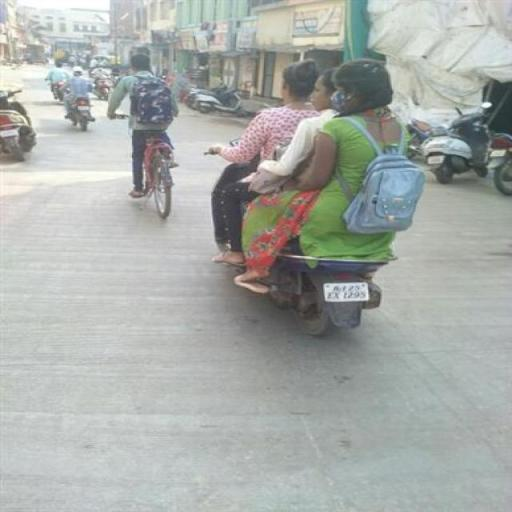tripple riding: (228, 56, 432, 242)
